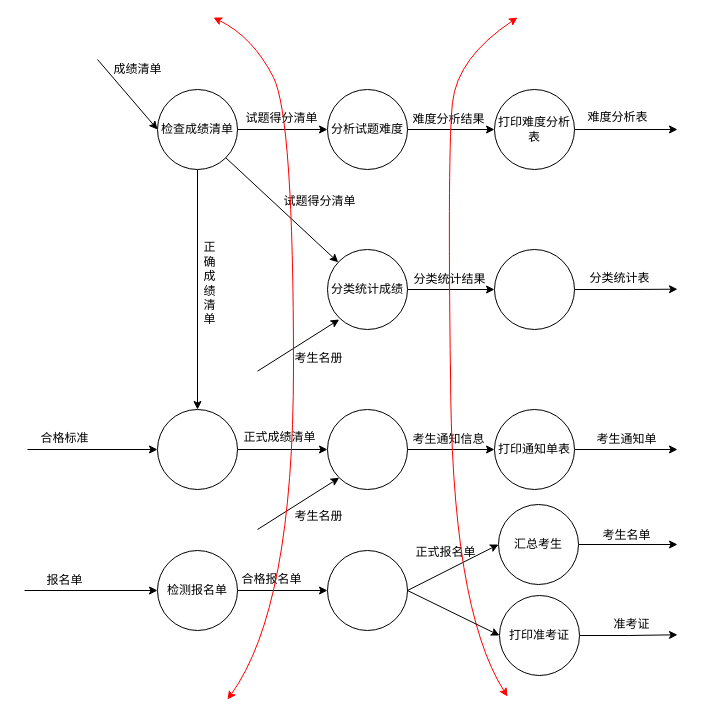
The diagram is 703 pixels wide and 716 high, and some of its shapes have lost their labels. Each missing label, with the centre of its shape:
"产生考生通知信息" goes at [367,449].
"审定合格者" goes at [197,449].
"打印分类统计表" goes at [534,289].
"编准考证号" goes at [367,590].
